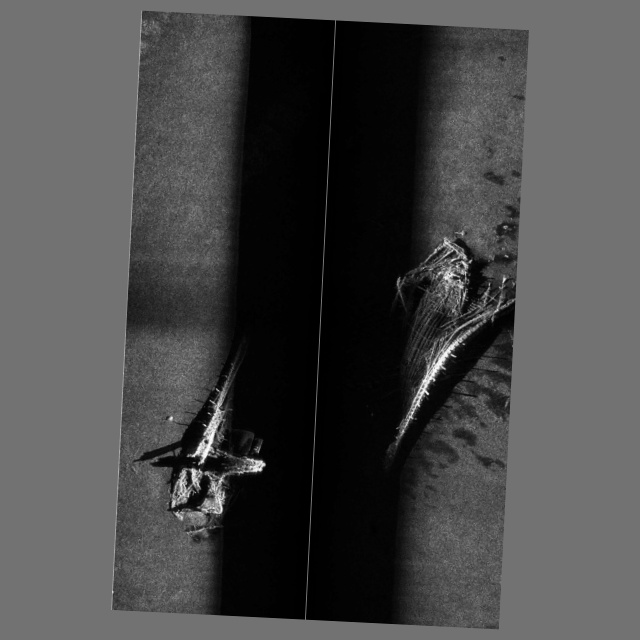Shipwreck: (161, 215, 519, 556)
